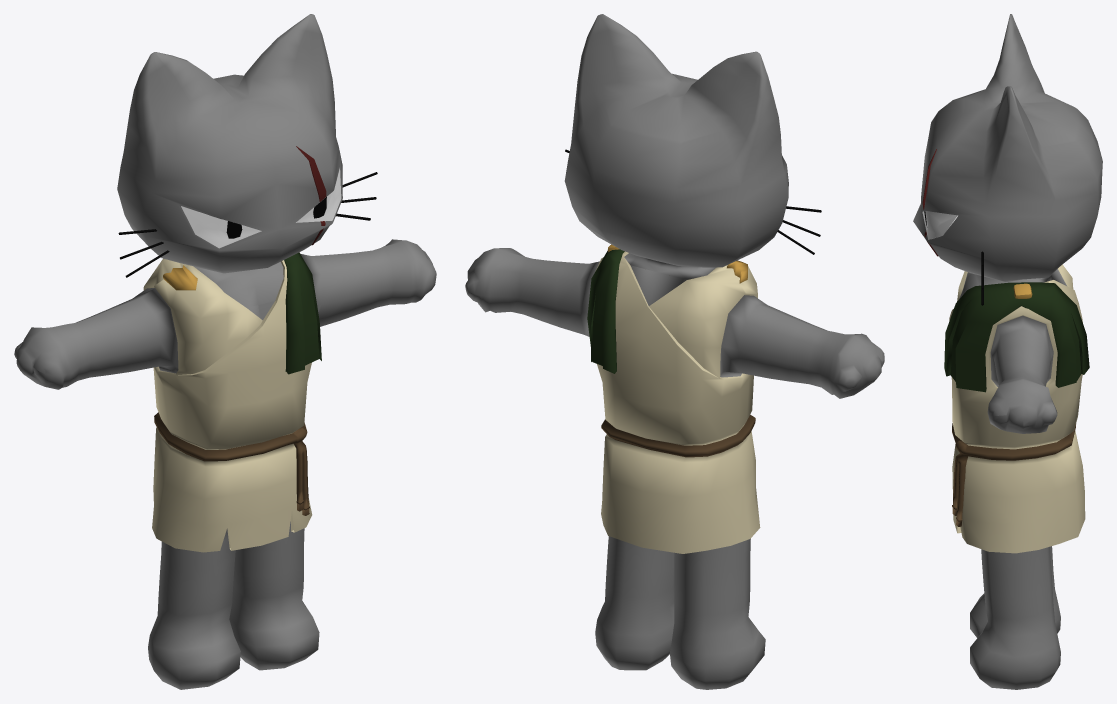
File: alastor_final.fbx
3 renders of one model, left to right at view 1: azimuth 30°, elevation 25°; view 2: azimuth 150°, elevation 25°; view 3: azimuth 270°, elevation 25°, orthographic. The views are drawn at different scales.
Visible parts, largest first — view 1: cuerpo001; view 2: cuerpo001; view 3: cuerpo001.
Boxes of the visible parts, bbox=[...] form: cuerpo001: bbox=[14, 14, 436, 689]; cuerpo001: bbox=[465, 14, 884, 689]; cuerpo001: bbox=[913, 14, 1102, 689].
Bounding box in the file's own units: 1.28 × 1.89 × 0.5357.
